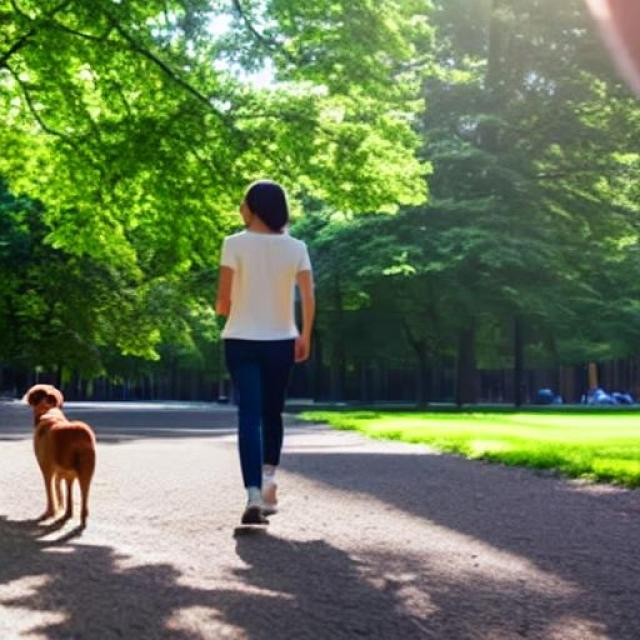Unleashed_Dog: (21, 339, 298, 526)
